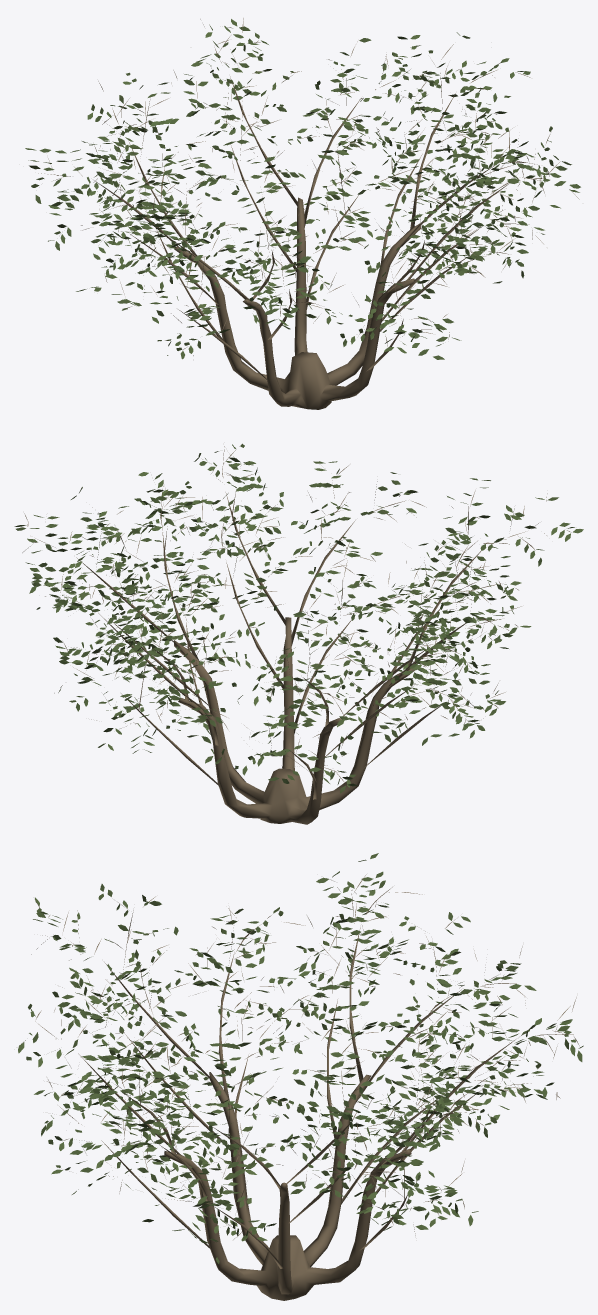
The model's file is Lentisque_0_Niveau1.fbx.
The picture shows the model from 3 angles, top to bottom: view 1: azimuth 30°, elevation 25°; view 2: azimuth 150°, elevation 25°; view 3: azimuth 270°, elevation 25°; orthographic projection. The views are drawn at different scales.
Parts seen in each view (by area): view 1: Lentisque_0_Niveau1; view 2: Lentisque_0_Niveau1; view 3: Lentisque_0_Niveau1.
Part boxes in pixels (<box>): Lentisque_0_Niveau1: <box>25,18,580,409</box>; Lentisque_0_Niveau1: <box>14,443,583,824</box>; Lentisque_0_Niveau1: <box>18,853,583,1300</box>.
Size of the model in its own units: 169 by 105 by 157.
